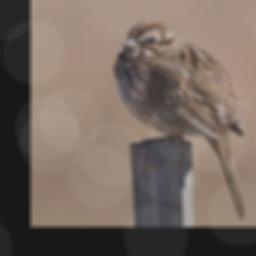Sparrow: (111, 19, 247, 222)
